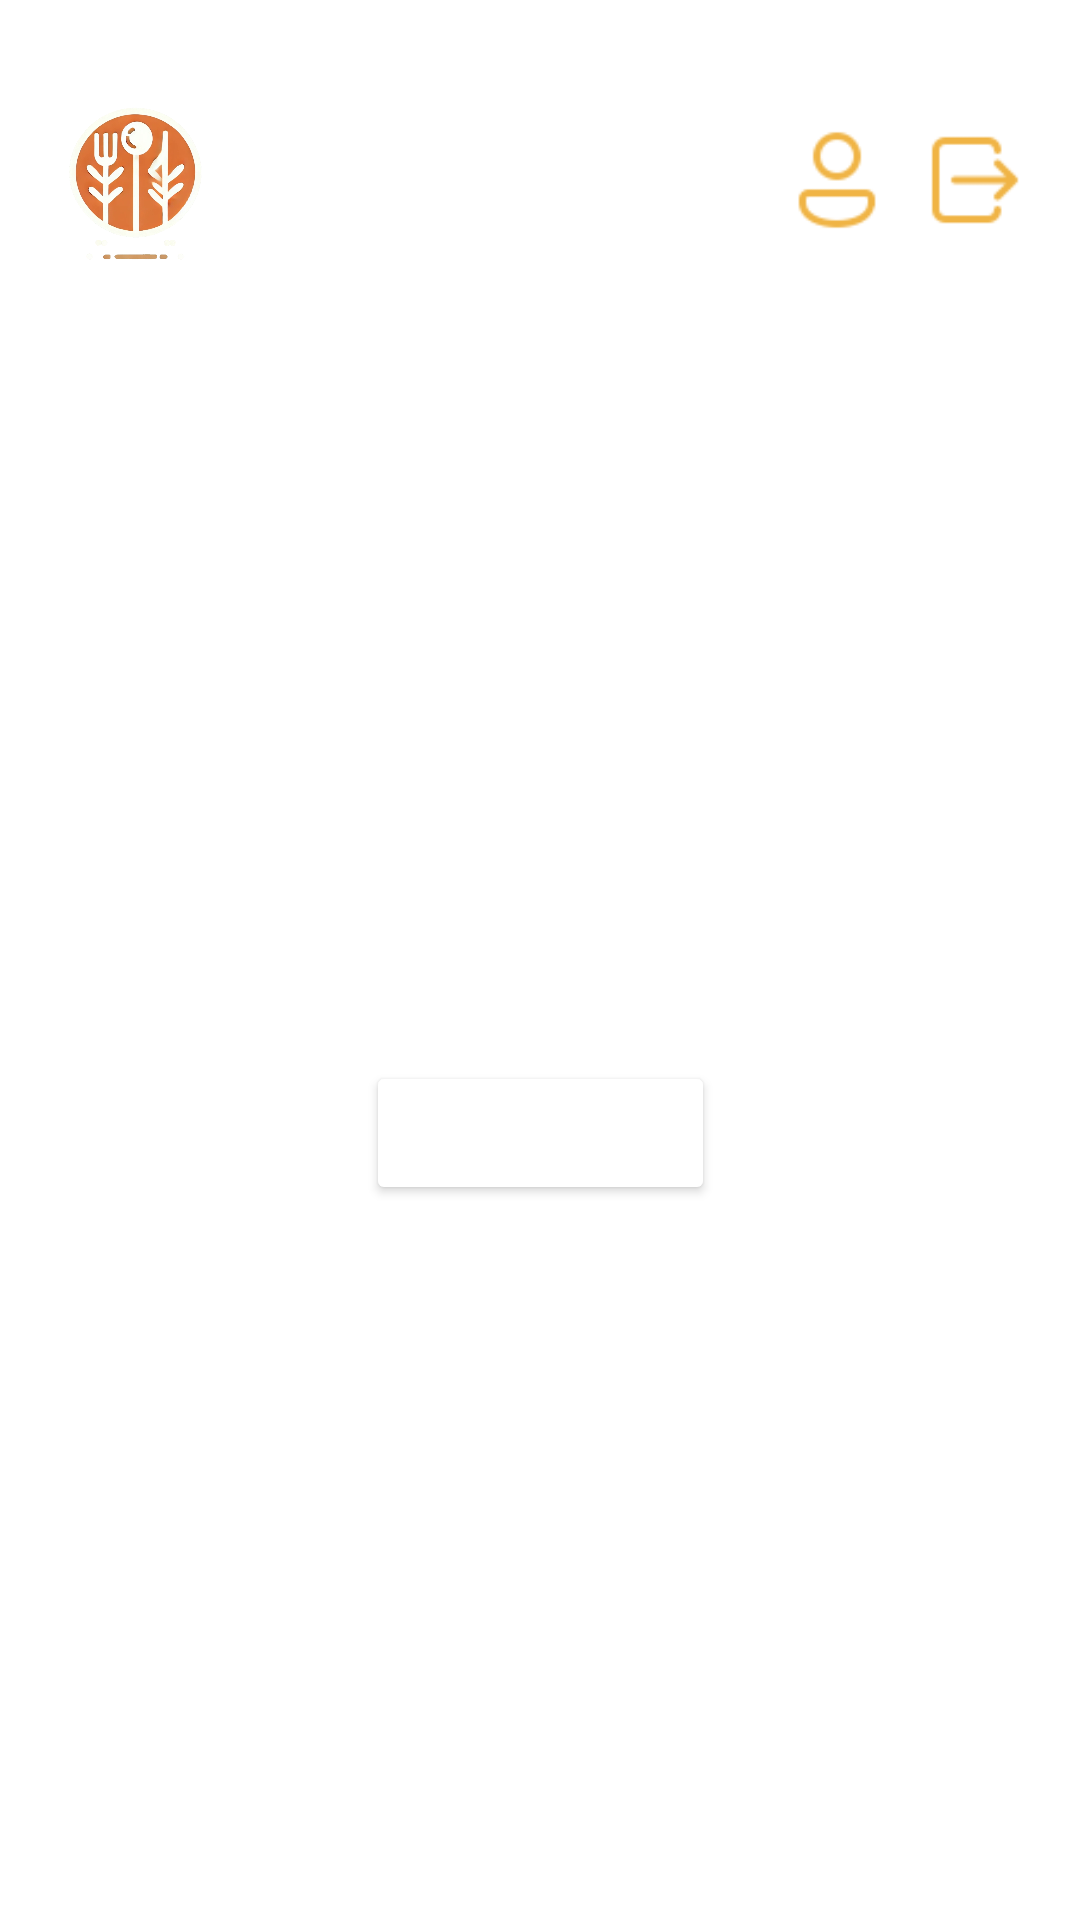

Point at icon controls on the screen. Image size 1080 × 1920, points as [x,y].
usericon: [837,180]
